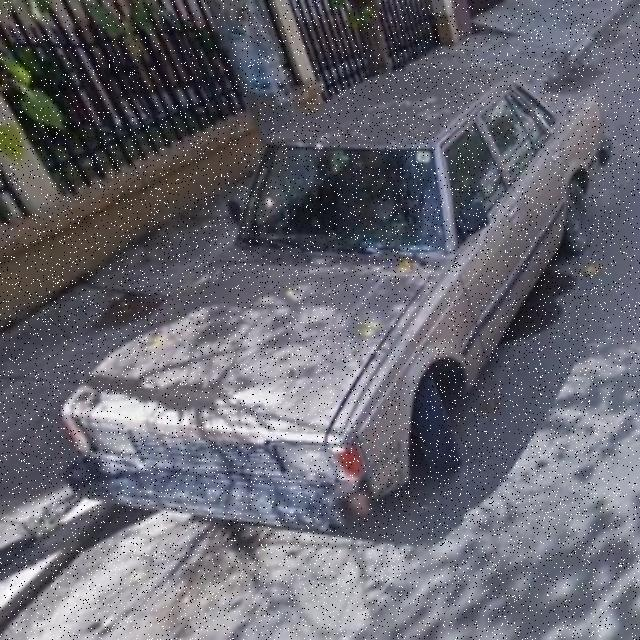cars: (70, 110, 550, 514)
